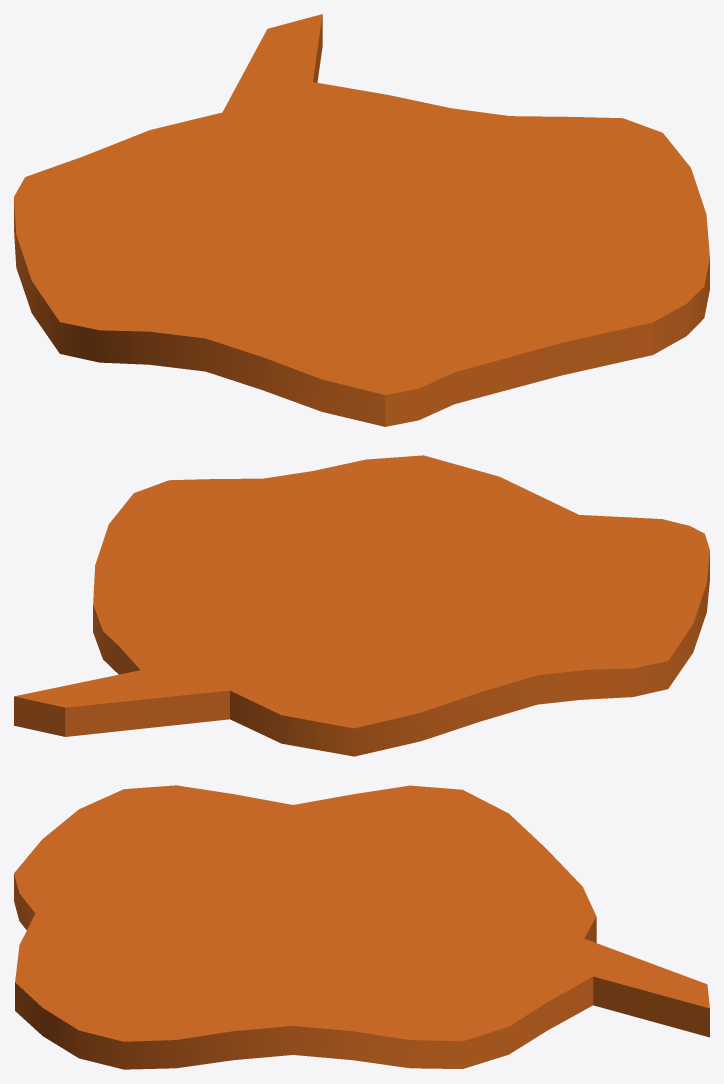
Rendered from post-apple-3.fbx.
3 renders of one model, top to bottom at view 1: azimuth 30°, elevation 25°; view 2: azimuth 150°, elevation 25°; view 3: azimuth 270°, elevation 25°, orthographic. The views are drawn at different scales.
Visible parts, largest first — view 1: Circle.002; view 2: Circle.002; view 3: Circle.002.
Boxes of the visible parts, box(x1,y1,x2,y2) form: Circle.002: box(14, 14, 709, 426); Circle.002: box(14, 455, 709, 756); Circle.002: box(14, 785, 709, 1069).
Bounding box in the file's own units: 214 × 26.17 × 244.
